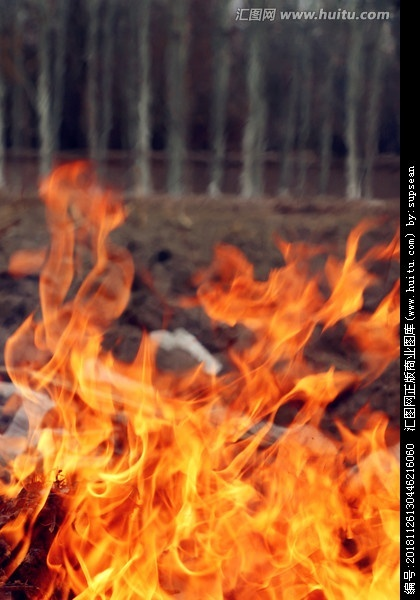fire: (0, 202, 401, 595)
